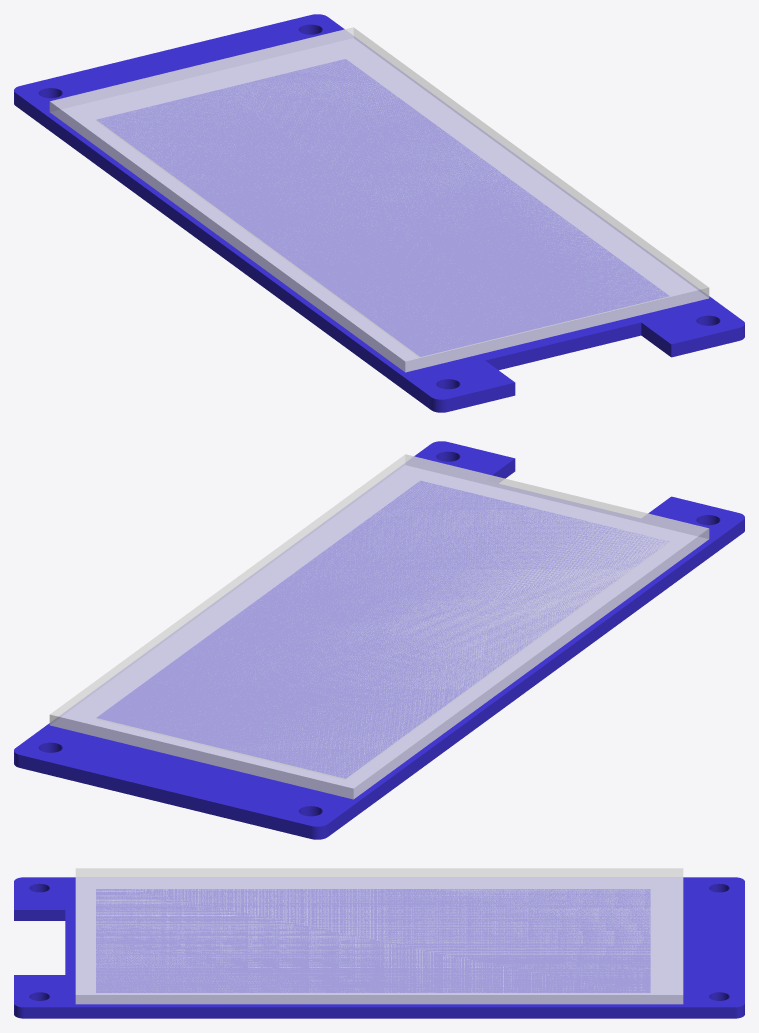
The model's file is Keyboard-EInkPad.gltf.
3 views of the same model, one above another, from view 1: azimuth 30°, elevation 25°; view 2: azimuth 150°, elevation 25°; view 3: azimuth 270°, elevation 25° (orthographic). The views are drawn at different scales.
Parts seen in each view (by area): view 1: EInkPCBFr4, EInkWidget; view 2: EInkPCBFr4, EInkWidget; view 3: EInkPCBFr4, EInkWidget.
Boxes of the visible parts, x1,y1,x2,y2 form: EInkPCBFr4: [14, 14, 744, 412]; EInkWidget: [49, 27, 709, 372]; EInkPCBFr4: [14, 441, 744, 839]; EInkWidget: [49, 454, 709, 799]; EInkPCBFr4: [14, 877, 744, 1018]; EInkWidget: [75, 868, 683, 1004].
Size of the model in its own units: 0.03 by 0.00445 by 0.0712.
